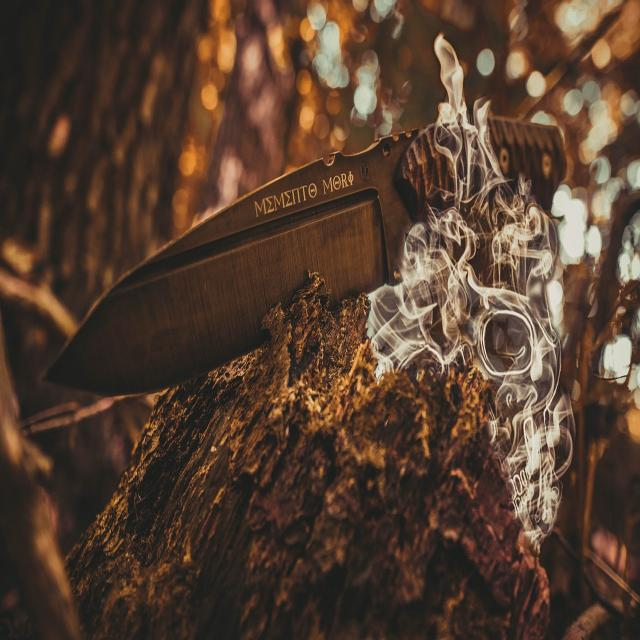Knife: (46, 125, 454, 395)
